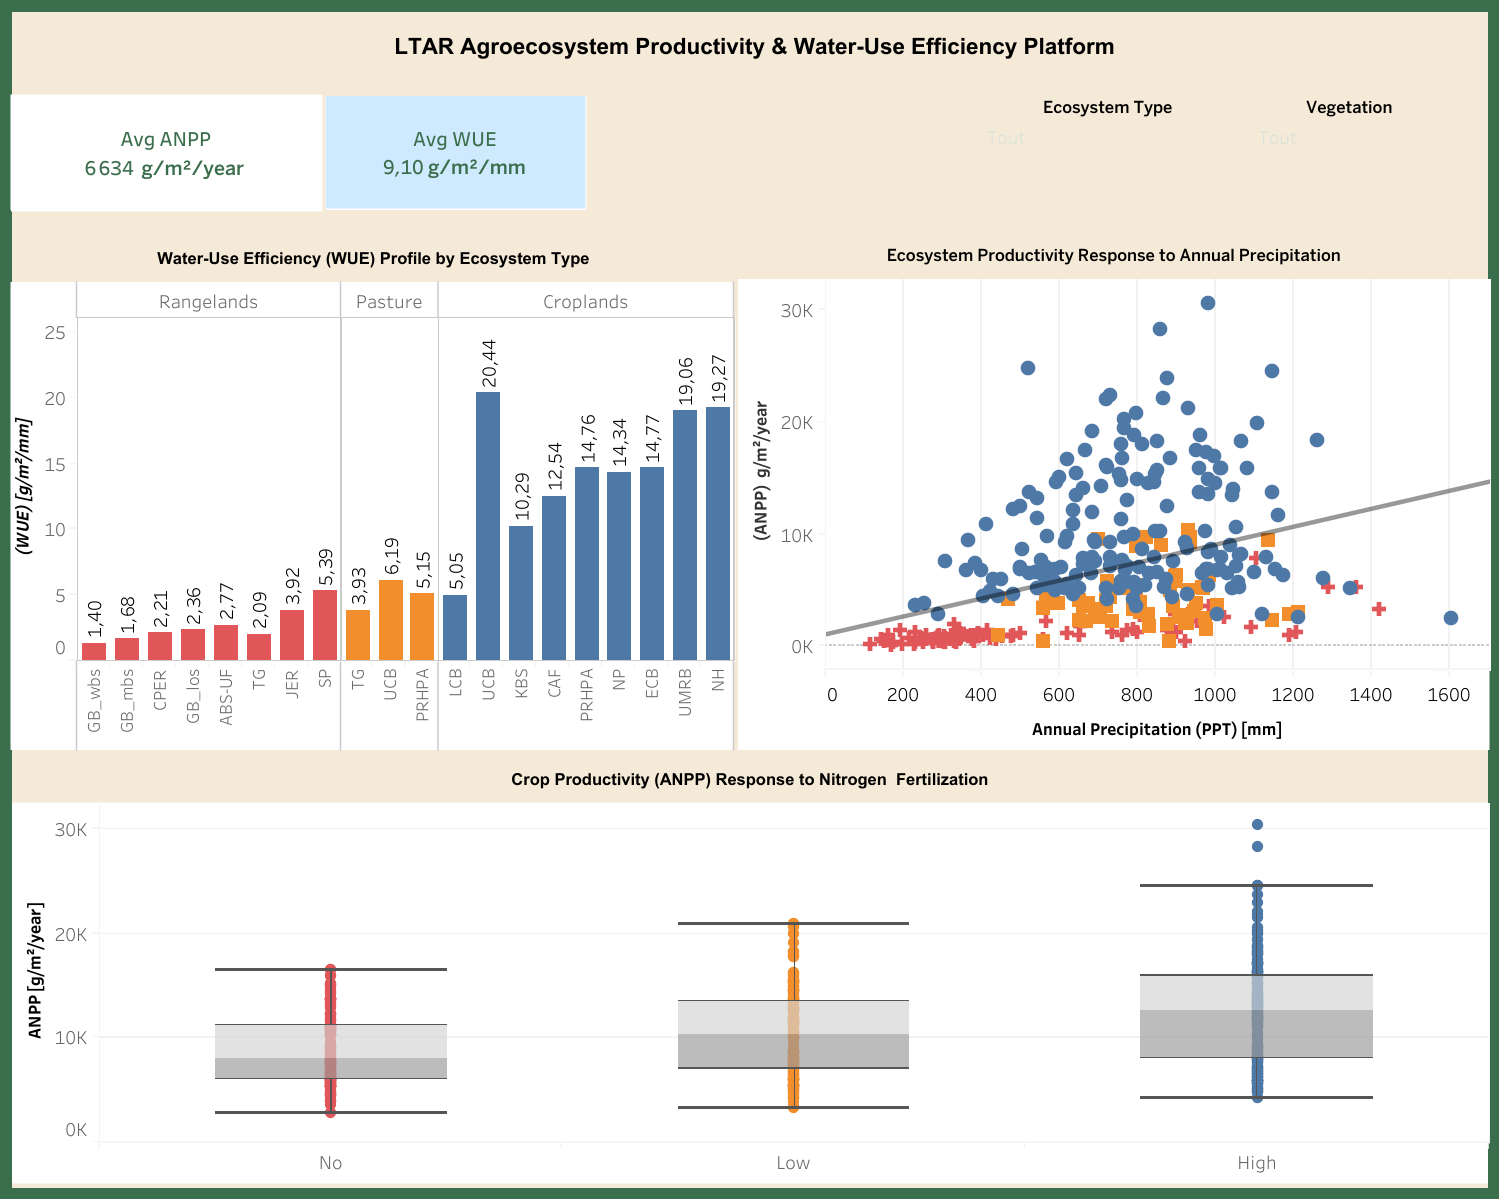

The dashboard page shown, as its layout file describes it:
{"tool":"tableau","page":{"name":"Executive_Insights_Dashboard","canvas":[1366,800],"ordinal":0},"visuals":[{"type":"title","box":[210,10,954,42]},{"type":"worksheet","title":"scorecard_ANPP","mark":"Automatic","box":[10,63,283,77]},{"type":"filter","title":"Ecosystem_wue_ranking","param":"[federated.0jlfgo00q4za1k17l6jsy0cor1zu].[none:type:nk]","box":[896,63,225,70]},{"type":"filter","title":"Nitrogen_Impact_Analysis","param":"[federated.1op77yh1cm3sbm1ad4h5814g46hz].[none:crop:nk]","box":[1144,63,170,77]},{"type":"worksheet","title":"scorecard_wue","mark":"Automatic","box":[297,64,189,75]},{"type":"worksheet","title":"Precipitation_vs_Productivity","mark":"Automatic","rows":["anpp"],"cols":["ppt"],"box":[672,157,684,343]},{"type":"worksheet","title":"Ecosystem_wue_ranking","mark":"Automatic","rows":["wue"],"cols":["type","site_code"],"box":[10,160,661,341]},{"type":"worksheet","title":"Nitrogen_Impact_Analysis","mark":"Circle","rows":["anpp"],"cols":["n_cat"],"box":[11,507,1344,282]}]}

Visuals, with their boxes on the page's 1366x800 design canvas (x1, y1, x2, y2). These are canvas units, not pixel positions in the 1499x1199 screenshot, which may show the page scaled, cropped or inside an application window:
title: x1=210, y1=10, x2=1164, y2=52
"scorecard_ANPP" worksheet: x1=10, y1=63, x2=293, y2=140
"Ecosystem_wue_ranking" filter: x1=896, y1=63, x2=1121, y2=133
"Nitrogen_Impact_Analysis" filter: x1=1144, y1=63, x2=1314, y2=140
"scorecard_wue" worksheet: x1=297, y1=64, x2=486, y2=139
"Precipitation_vs_Productivity" worksheet: x1=672, y1=157, x2=1356, y2=500
"Ecosystem_wue_ranking" worksheet: x1=10, y1=160, x2=671, y2=501
"Nitrogen_Impact_Analysis" worksheet (Circle marks): x1=11, y1=507, x2=1355, y2=789
